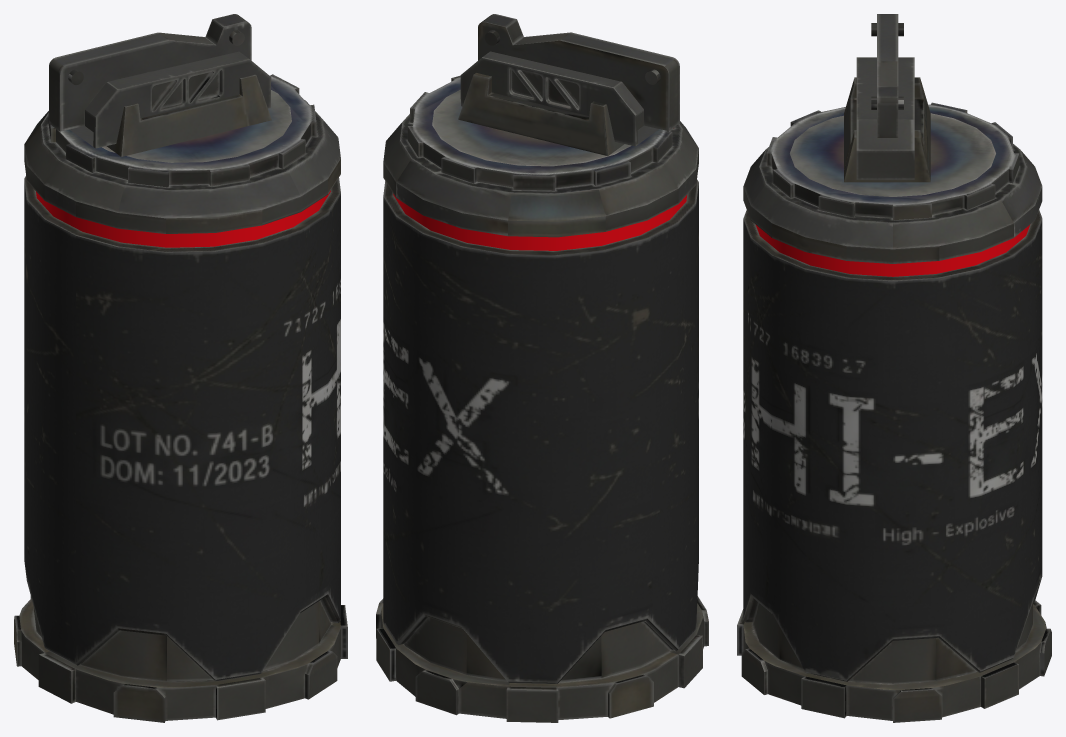
Rendered from Hi-Ex Grenade Thrown.fbx.
3 views of the same model, side by side, from view 1: azimuth 30°, elevation 25°; view 2: azimuth 150°, elevation 25°; view 3: azimuth 270°, elevation 25° (orthographic). The views are drawn at different scales.
Visible parts, largest first — view 1: Hi-Ex Grenade Thrown_LOD0; view 2: Hi-Ex Grenade Thrown_LOD0; view 3: Hi-Ex Grenade Thrown_LOD0.
Boxes of the visible parts, x1=… form: Hi-Ex Grenade Thrown_LOD0: x1=14, y1=14, x2=347, y2=722; Hi-Ex Grenade Thrown_LOD0: x1=376, y1=14, x2=708, y2=722; Hi-Ex Grenade Thrown_LOD0: x1=737, y1=14, x2=1051, y2=722.
Size of what is drawn, in the model's own units: 11.77 by 24.23 by 11.77.
